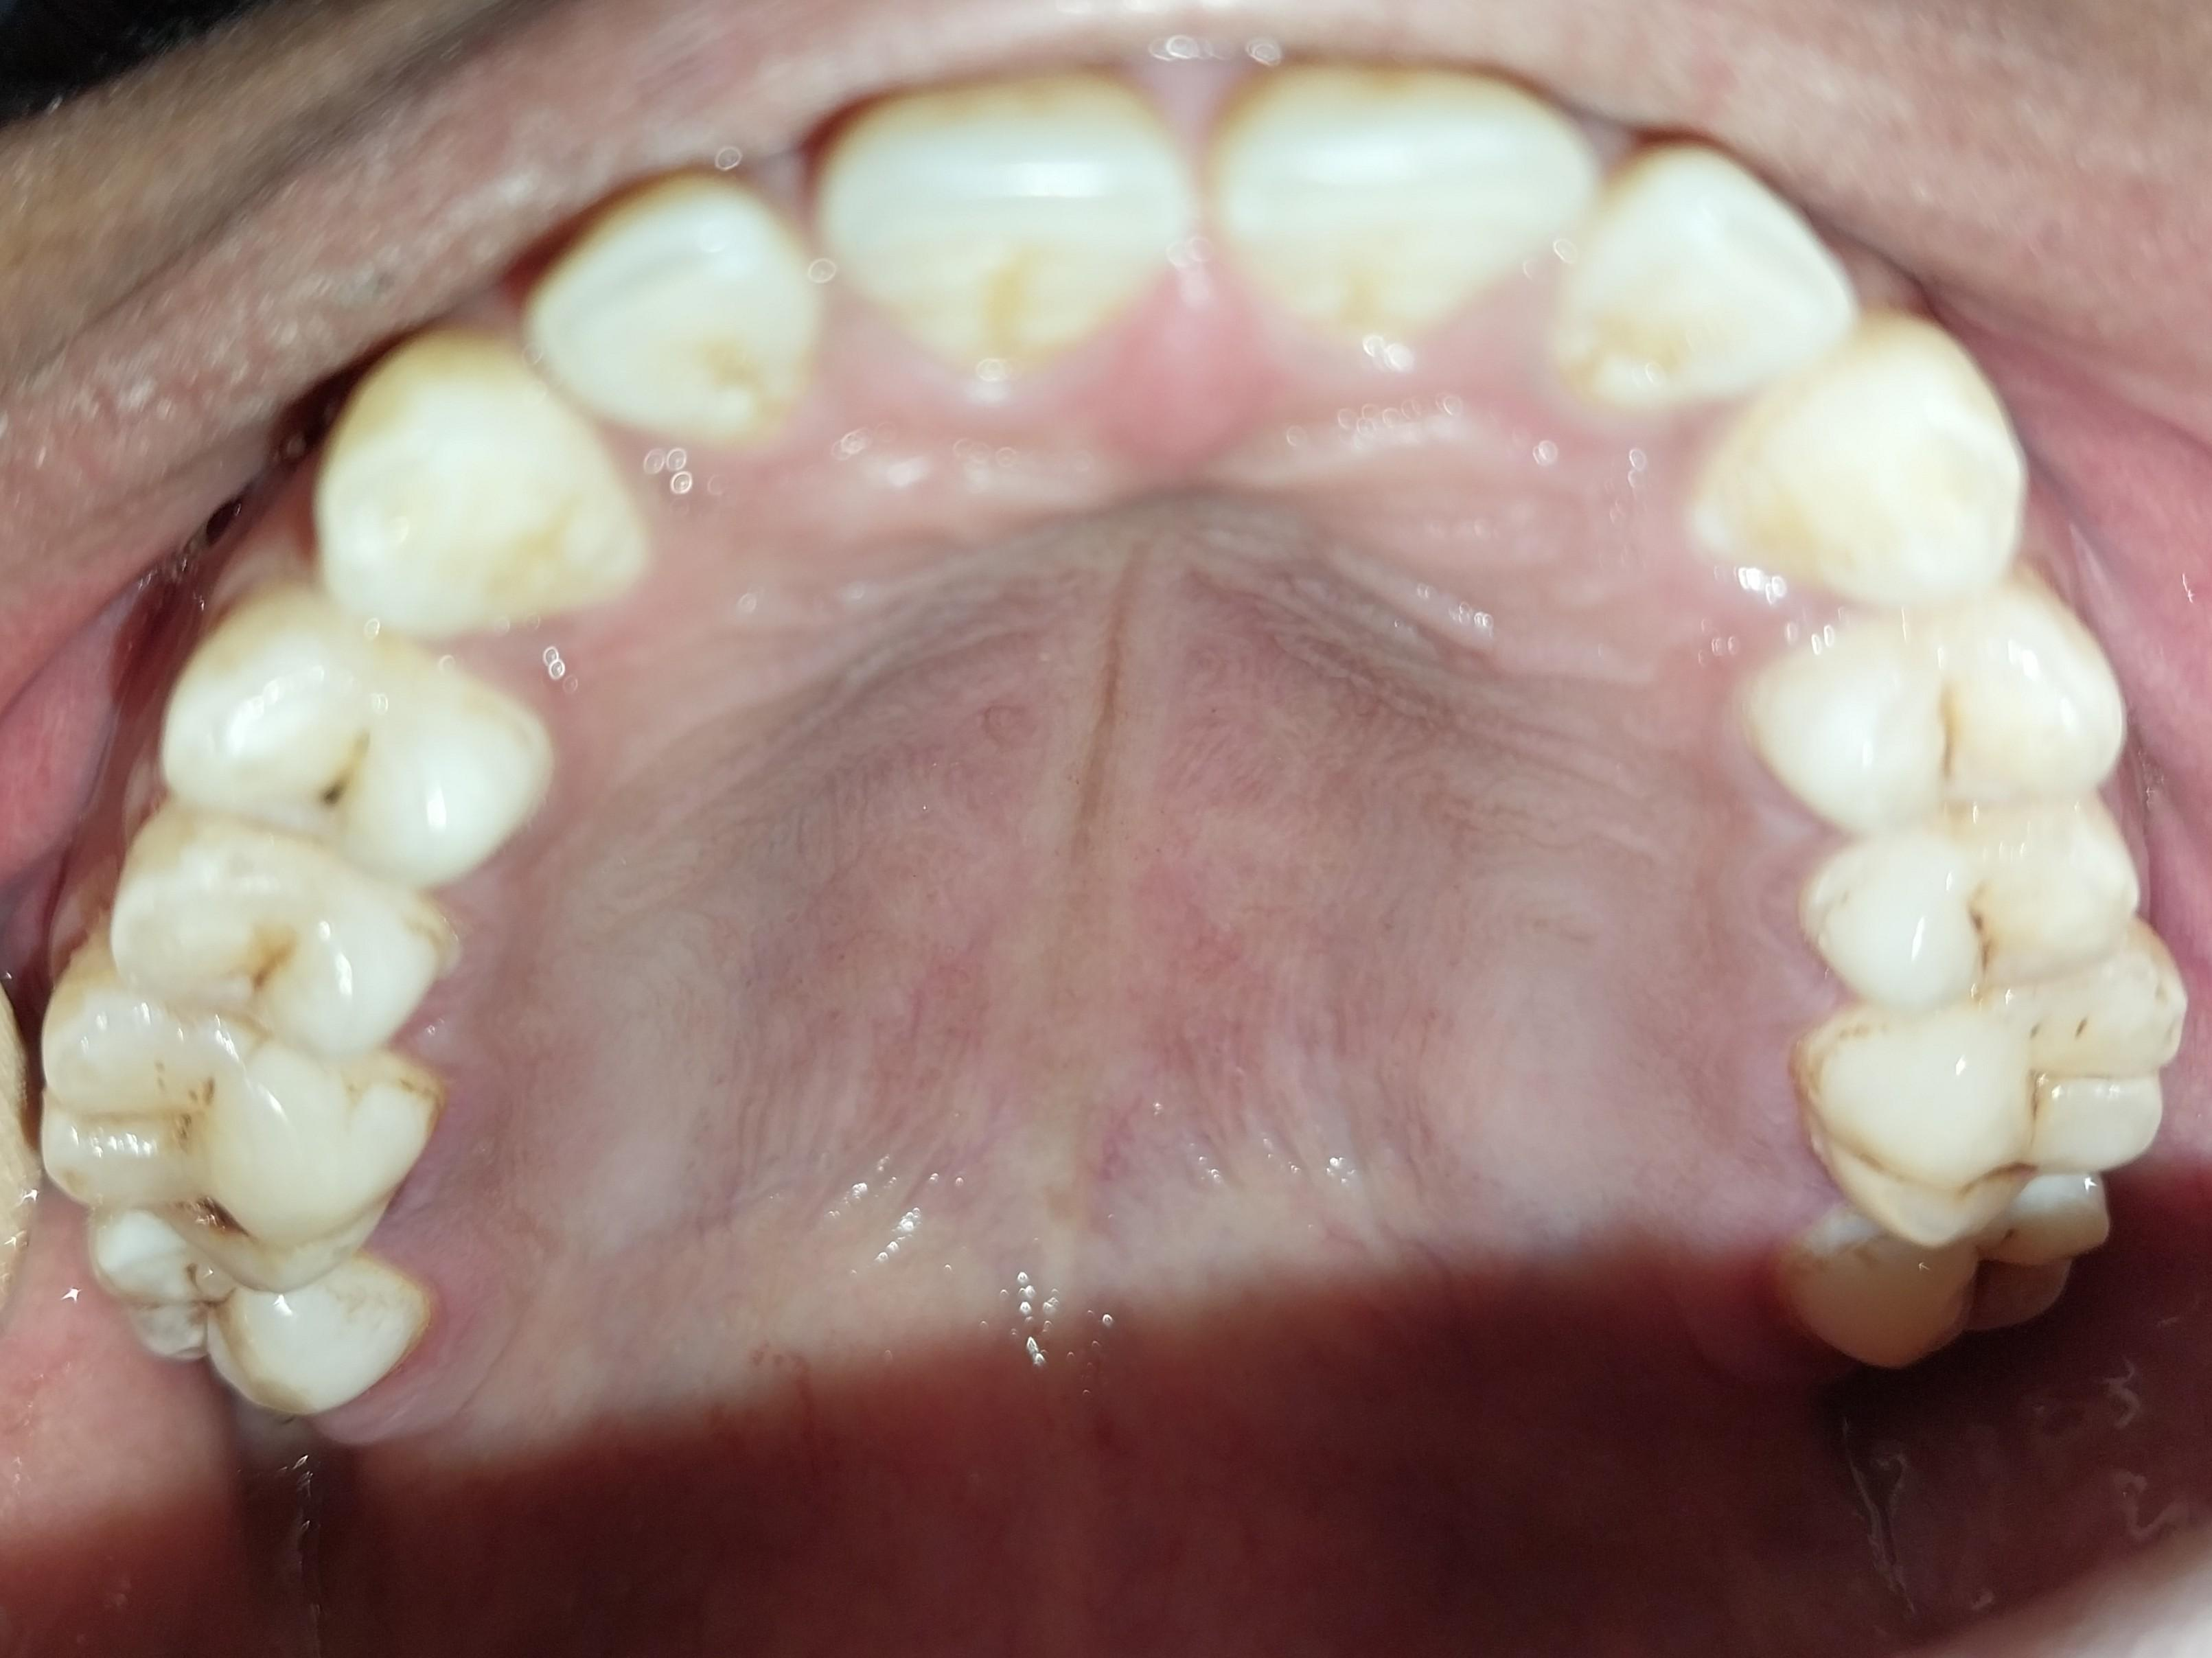D: (45, 978, 425, 1287), (179, 597, 540, 892), (1804, 995, 2181, 1250), (1795, 1195, 2115, 1363)
